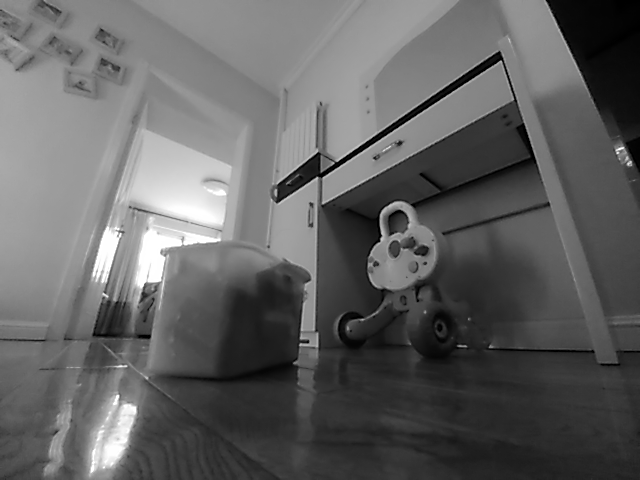curtain: (93, 204, 151, 339)
others: (143, 290, 302, 376)
toy: (329, 278, 462, 362)
